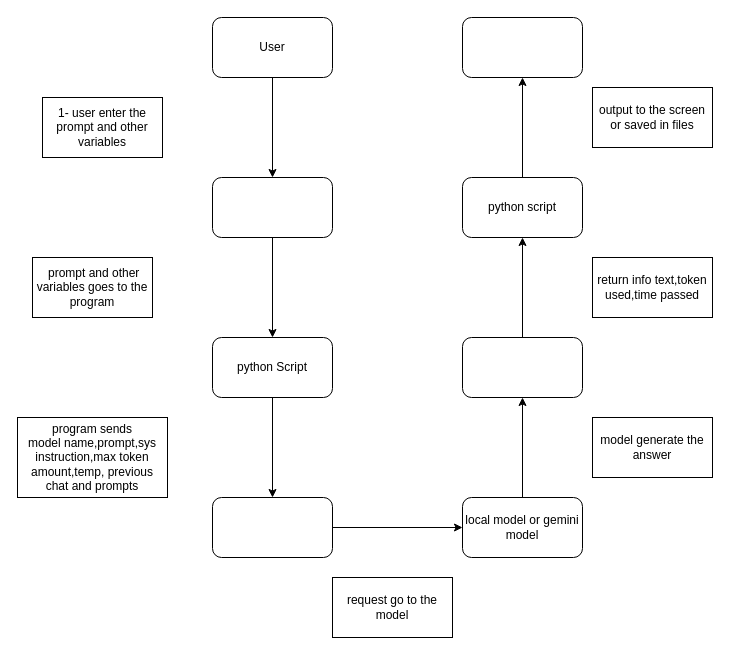
This 730x655 diagram has some shape labels left out. Each missing label, with the centre of its shape:
"display to user and save in logs" belongs at (x=522, y=47).
"gemini api key/ LM studio local server" belongs at (x=272, y=527).
"Prompt" belongs at (x=272, y=207).
"response" belongs at (x=522, y=367).
